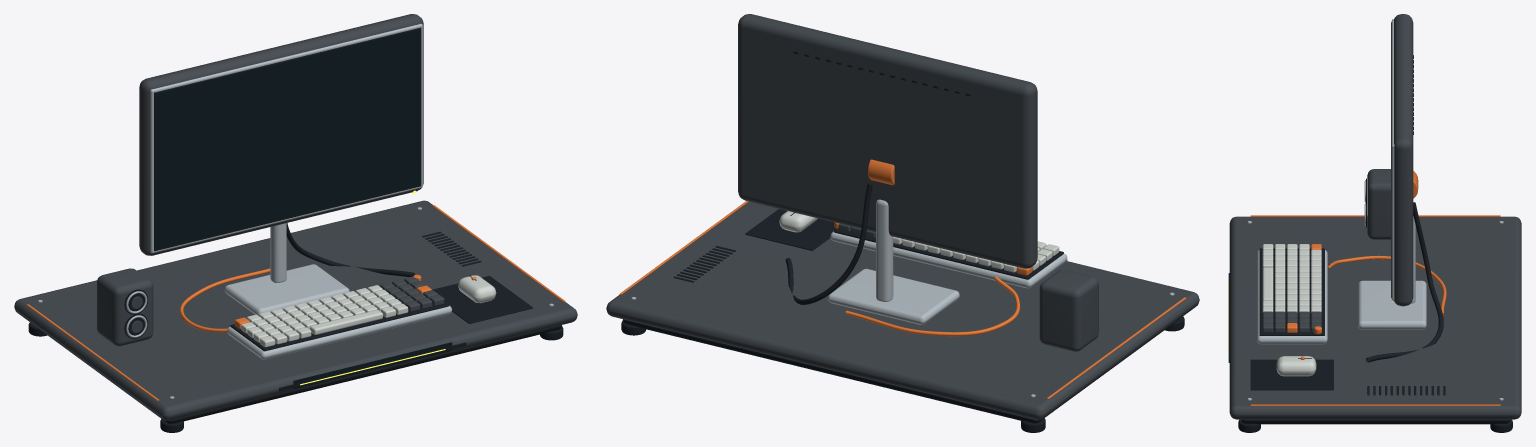
File: terminal.glb
The picture shows the model from 3 angles, left to right: view 1: azimuth 30°, elevation 25°; view 2: azimuth 150°, elevation 25°; view 3: azimuth 270°, elevation 25°; orthographic projection. The views are drawn at different scales.
Visible parts, largest first — view 1: Static / Graphite ceramic.001, SCREEN_project, Static / Recessed black rubber.001, Static / Satin titanium.001, Static / Warm porcelain keys, Static / Burnt orange enamel.001, LABEL_project; view 2: Static / Graphite ceramic.001, Static / Recessed black rubber.001, Static / Satin titanium.001, Static / Burnt orange enamel.001, Static / Warm porcelain keys; view 3: Static / Graphite ceramic.001, Static / Recessed black rubber.001, Static / Satin titanium.001, Static / Warm porcelain keys, Static / Burnt orange enamel.001.
Boxes of the visible parts, x1,y1,x2,y2 form: Static / Graphite ceramic.001: (14, 14, 577, 420); SCREEN_project: (156, 29, 420, 249); Static / Recessed black rubber.001: (28, 27, 563, 432); Static / Satin titanium.001: (38, 23, 553, 398); Static / Warm porcelain keys: (241, 275, 496, 347); Static / Burnt orange enamel.001: (27, 205, 565, 400); LABEL_project: (293, 342, 452, 389); Static / Graphite ceramic.001: (606, 14, 1199, 420); Static / Recessed black rubber.001: (621, 51, 1184, 432); Static / Satin titanium.001: (631, 199, 1174, 397); Static / Burnt orange enamel.001: (619, 159, 1186, 399); Static / Warm porcelain keys: (779, 211, 1059, 272); Static / Graphite ceramic.001: (1229, 14, 1521, 419); Static / Recessed black rubber.001: (1228, 22, 1512, 432); Static / Satin titanium.001: (1247, 19, 1503, 400); Static / Warm porcelain keys: (1262, 244, 1321, 376); Static / Burnt orange enamel.001: (1250, 171, 1500, 405).
Bounding box in the file's own units: 11 × 6.98 × 7.03.
